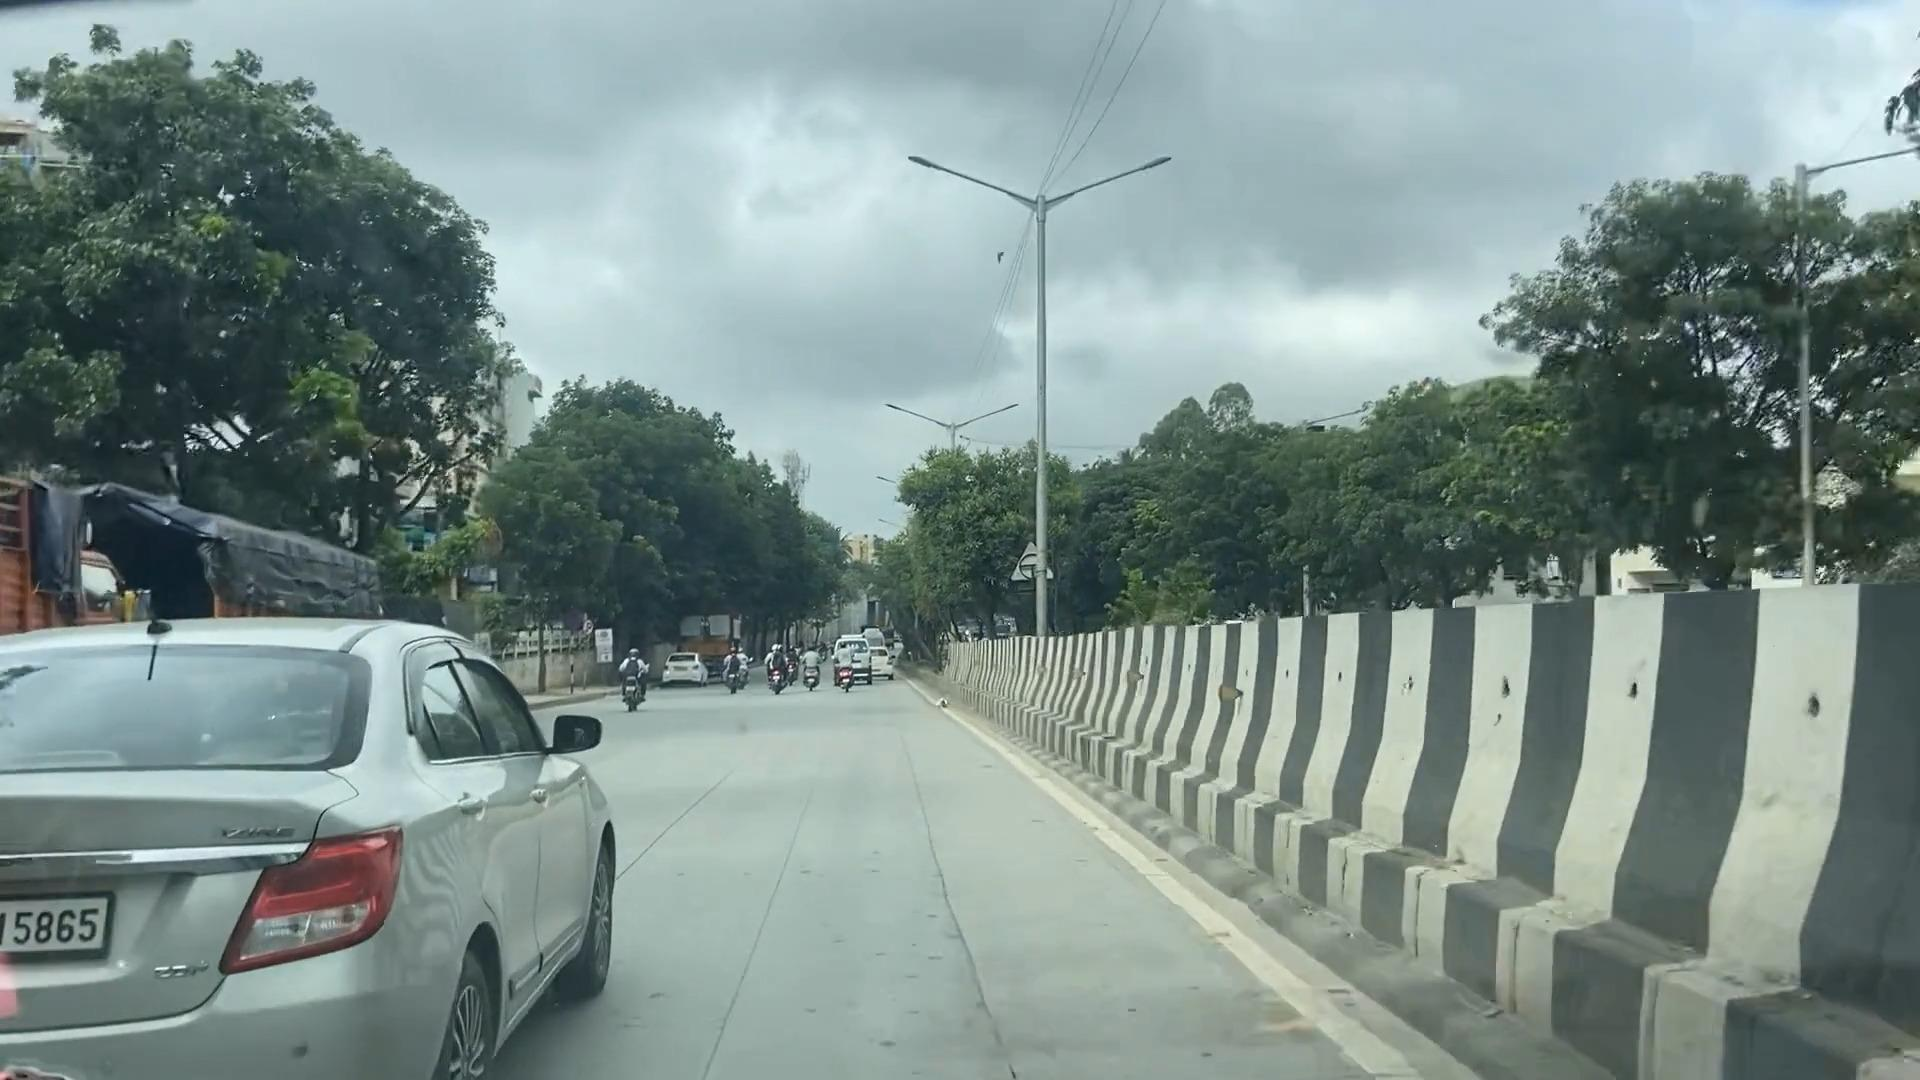LMV: (5, 618, 624, 1080)
